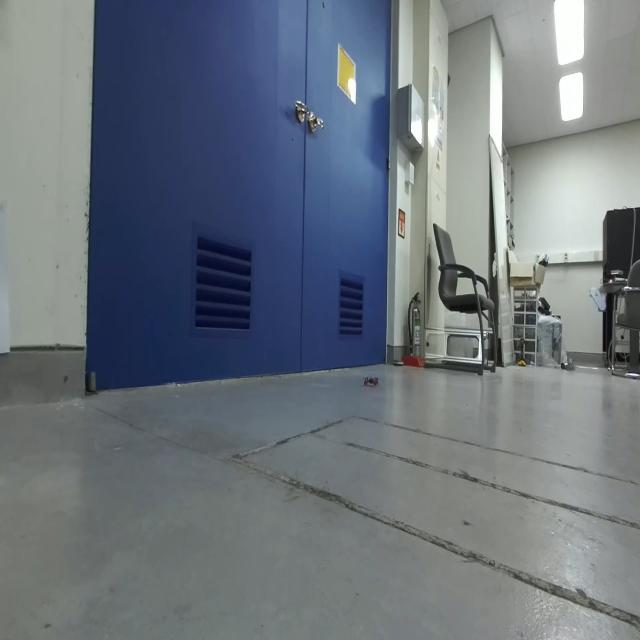crazyflie: (359, 371, 384, 394)
